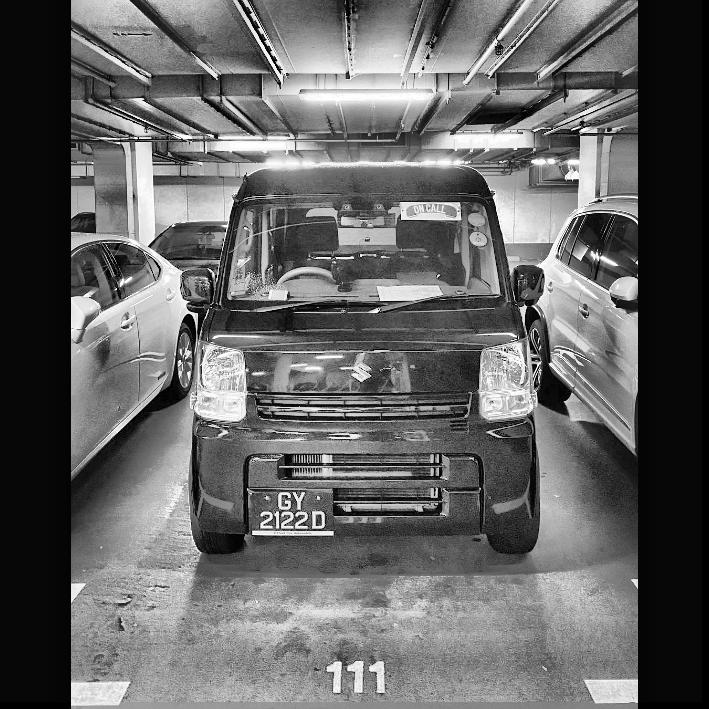License-Plates: (248, 490, 332, 530)
